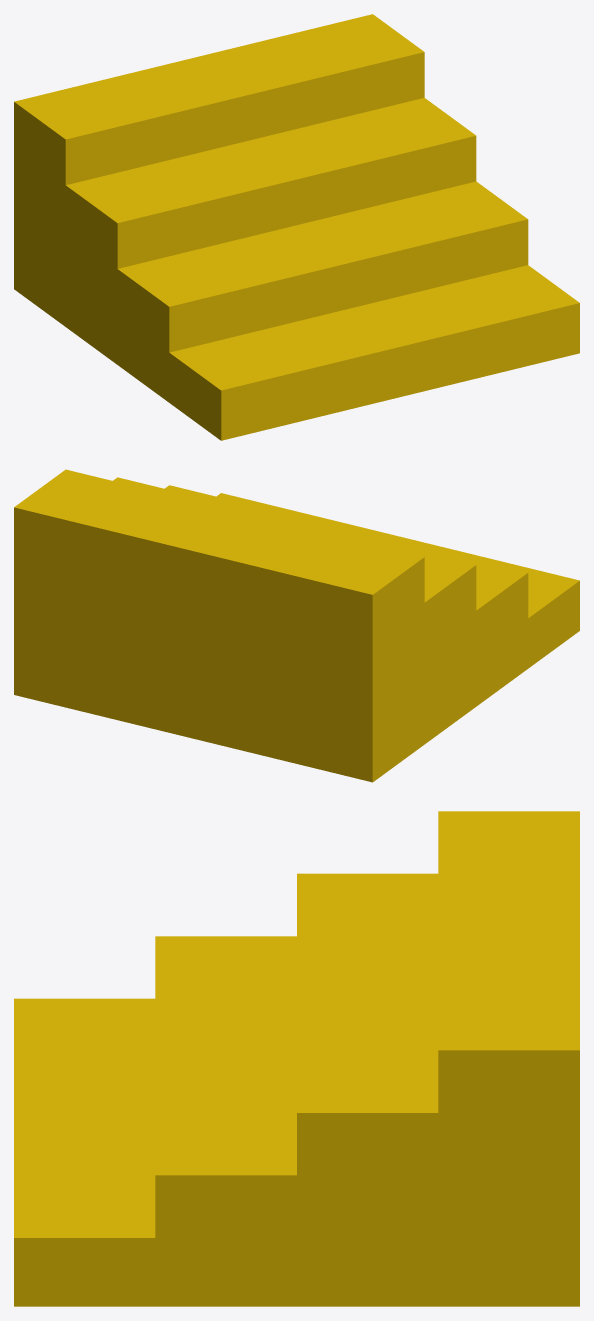
Rendered from Stairs1x1.fbx.
3 views of the same model, one above another, from view 1: azimuth 30°, elevation 25°; view 2: azimuth 150°, elevation 25°; view 3: azimuth 270°, elevation 25° (orthographic). The views are drawn at different scales.
Parts seen in each view (by area): view 1: Stairs1x1; view 2: Stairs1x1; view 3: Stairs1x1.
Part boxes in pixels (left/top/right/bottom): Stairs1x1: left=14, top=14, right=579, bottom=440; Stairs1x1: left=14, top=469, right=579, bottom=782; Stairs1x1: left=14, top=811, right=579, bottom=1306.
Bounding box in the file's own units: 100 × 49.95 × 100.
